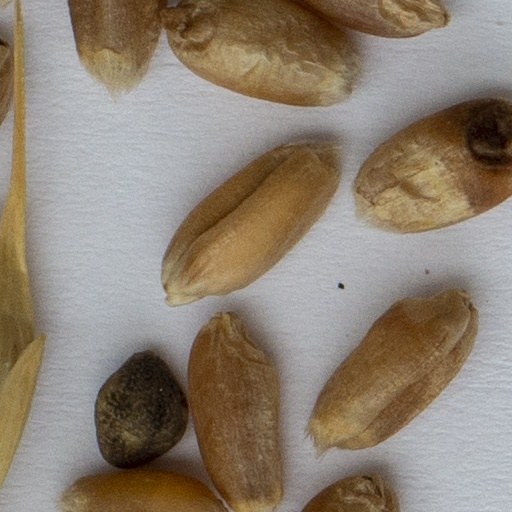Peel-poly: (0, 1, 43, 478)
